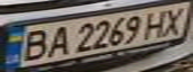2: (90, 16, 115, 51), (72, 19, 96, 54)
6: (109, 15, 130, 47)
9: (121, 12, 148, 44)
A: (42, 24, 72, 58)
B: (12, 27, 54, 62)
H: (139, 8, 172, 39)
X: (157, 3, 190, 36)
